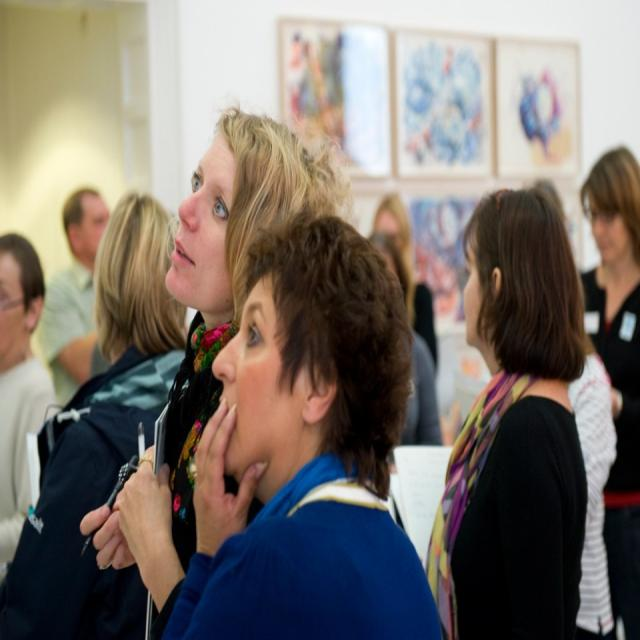body: (81, 106, 349, 640), (148, 209, 452, 639), (0, 192, 193, 640), (420, 180, 595, 639), (528, 175, 620, 640), (578, 145, 640, 640), (0, 232, 63, 587), (36, 184, 114, 416), (357, 186, 441, 395), (366, 228, 445, 448)
